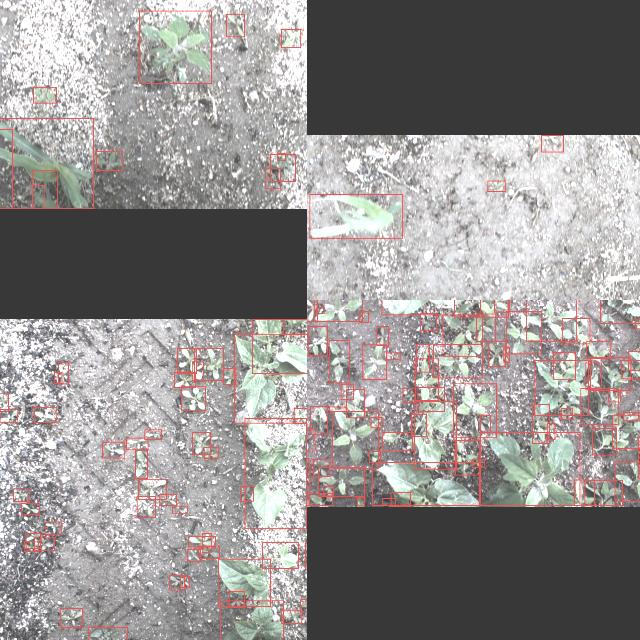crop: (0, 118, 93, 208), (245, 418, 307, 528), (234, 333, 307, 422), (372, 462, 480, 506), (310, 193, 402, 237), (252, 318, 307, 373), (414, 401, 456, 469), (220, 601, 284, 640), (218, 558, 270, 606), (382, 300, 480, 314), (0, 128, 13, 207), (32, 170, 58, 208), (262, 542, 298, 568), (32, 185, 44, 208)
weed: (480, 432, 580, 506), (140, 11, 212, 84), (535, 360, 589, 414), (332, 410, 378, 468), (454, 383, 496, 437), (525, 300, 576, 340), (443, 314, 483, 356), (433, 344, 482, 378), (506, 311, 542, 353), (319, 467, 365, 497), (580, 388, 618, 424), (591, 358, 631, 390), (614, 461, 640, 501), (313, 300, 362, 321), (612, 414, 640, 448), (194, 347, 223, 379), (416, 358, 438, 400), (585, 480, 623, 504), (454, 440, 480, 474), (600, 300, 640, 322), (454, 300, 508, 316), (329, 340, 349, 382), (362, 344, 386, 378), (562, 317, 590, 343), (532, 404, 550, 444), (270, 154, 296, 180), (418, 387, 444, 411), (592, 428, 616, 454), (553, 352, 575, 380), (308, 325, 328, 355), (181, 386, 205, 410), (383, 432, 413, 451), (138, 479, 166, 499), (476, 313, 496, 341), (346, 388, 364, 418), (96, 151, 122, 171), (574, 480, 594, 506), (88, 627, 127, 640), (310, 406, 328, 434), (488, 340, 506, 366), (60, 608, 82, 628), (178, 348, 196, 372), (587, 340, 611, 358), (281, 28, 301, 48), (136, 496, 156, 516), (226, 14, 244, 36), (541, 134, 563, 152), (192, 432, 210, 454), (134, 449, 148, 477), (586, 362, 600, 390), (416, 344, 429, 372), (621, 359, 640, 378), (283, 318, 307, 333), (34, 86, 56, 102), (34, 406, 56, 422), (103, 441, 125, 457), (174, 372, 196, 386), (412, 414, 426, 436), (312, 459, 330, 476), (420, 312, 436, 330), (266, 168, 280, 188), (188, 536, 216, 546), (282, 610, 302, 624), (391, 492, 411, 506), (126, 437, 148, 449), (310, 493, 332, 505), (0, 408, 18, 422), (34, 538, 54, 550), (192, 360, 204, 380), (199, 546, 219, 558), (377, 325, 389, 345), (26, 532, 40, 548), (170, 574, 184, 590), (230, 591, 244, 607), (58, 361, 68, 383), (21, 502, 39, 514), (307, 300, 317, 321), (629, 350, 640, 369), (341, 384, 354, 400), (202, 532, 212, 552), (14, 488, 28, 502), (402, 388, 416, 402), (294, 407, 307, 422), (45, 522, 61, 534), (224, 368, 236, 384), (240, 486, 253, 500), (144, 429, 162, 439), (480, 414, 490, 432), (160, 494, 177, 504), (187, 549, 201, 561), (494, 300, 509, 311), (488, 180, 504, 190), (204, 447, 218, 458), (307, 428, 314, 450), (0, 392, 8, 410), (608, 389, 620, 401), (24, 541, 38, 551), (172, 505, 188, 513), (547, 423, 555, 439), (180, 576, 190, 588), (370, 451, 380, 463), (382, 498, 396, 506), (624, 412, 638, 420), (371, 417, 382, 427), (329, 406, 347, 412), (359, 310, 368, 322), (299, 598, 307, 611), (386, 352, 399, 360), (323, 486, 333, 496), (562, 408, 572, 418), (504, 346, 510, 362), (473, 459, 485, 467), (54, 372, 62, 382), (277, 152, 285, 160), (357, 498, 365, 506), (635, 319, 640, 329), (316, 307, 324, 313), (307, 499, 309, 505)
